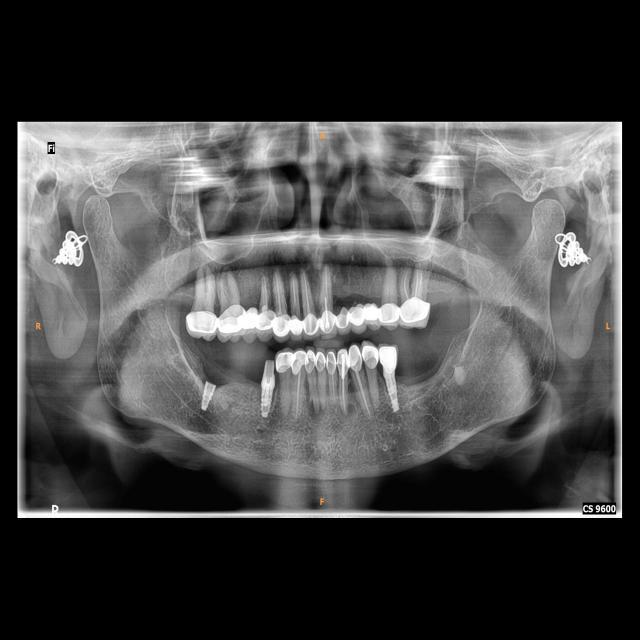implant: (380, 345, 403, 413), (258, 356, 276, 418), (193, 380, 215, 411)
kanal-tedavisi: (355, 374, 371, 418), (288, 274, 302, 314), (260, 272, 271, 309), (322, 268, 331, 312), (274, 274, 284, 311), (302, 273, 311, 311), (294, 374, 302, 414), (413, 269, 423, 298), (340, 377, 348, 412), (330, 373, 337, 399), (402, 269, 408, 298)
kaplama: (186, 311, 220, 334), (220, 305, 246, 335), (402, 296, 430, 323), (270, 312, 288, 336), (380, 301, 398, 324), (258, 306, 275, 330), (347, 344, 362, 371), (362, 344, 377, 369), (319, 310, 335, 332), (291, 351, 307, 373), (278, 349, 293, 371), (336, 349, 348, 376), (325, 349, 337, 375), (290, 314, 303, 336), (315, 350, 326, 373), (304, 315, 318, 333), (306, 348, 316, 372)
kok-enfeksiyonu: (262, 250, 317, 280)
kopru: (338, 296, 378, 328), (240, 297, 262, 335)
